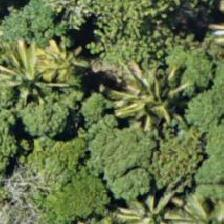coconut_tree: (8, 25, 98, 115), (108, 59, 198, 149), (0, 31, 63, 121), (109, 168, 199, 223)
